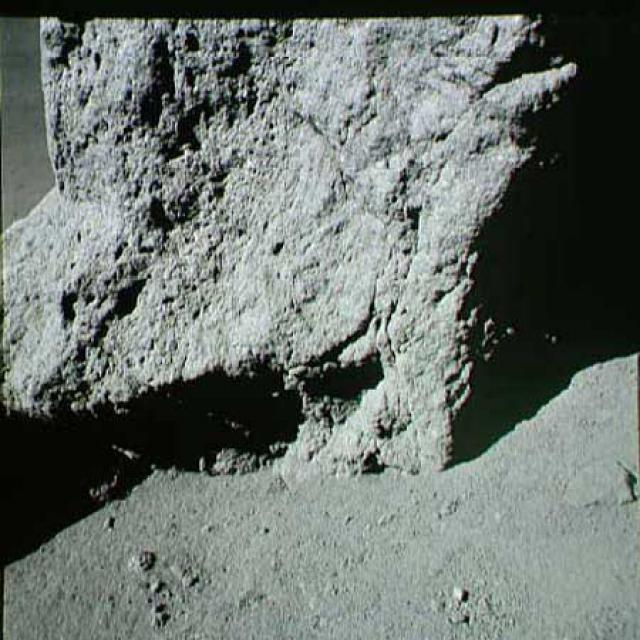rock: (1, 7, 580, 484)
